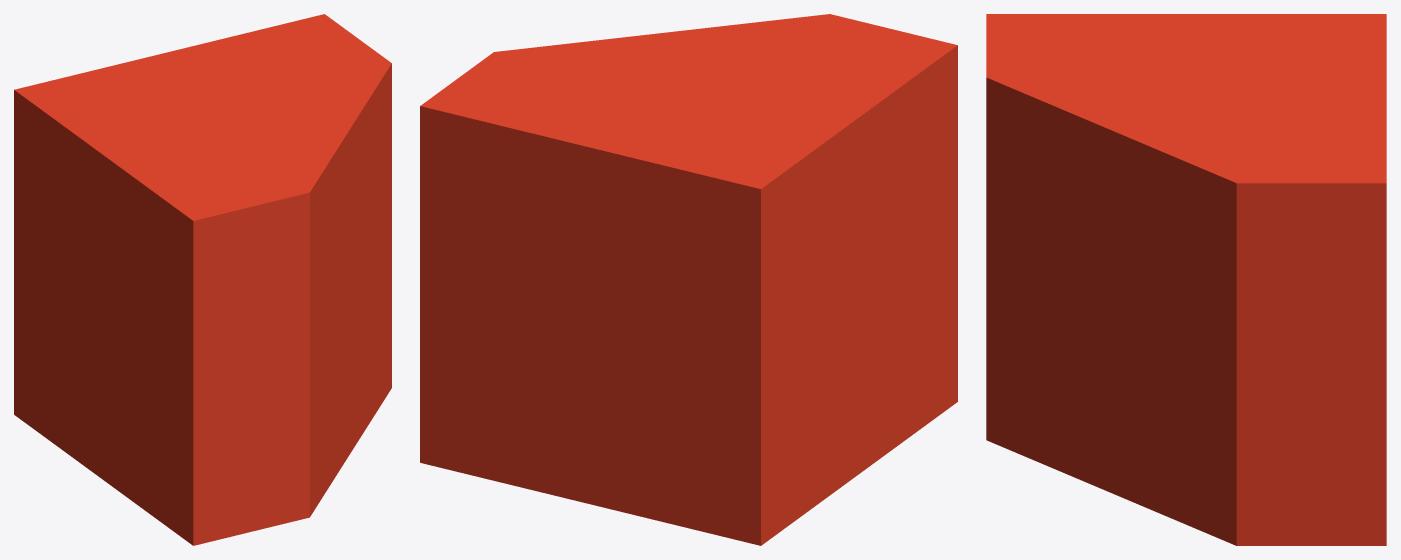
Rendered from r3c8_body_red.gltf.
3 views of the same model, side by side, from view 1: azimuth 30°, elevation 25°; view 2: azimuth 150°, elevation 25°; view 3: azimuth 270°, elevation 25° (orthographic). The views are drawn at different scales.
Parts seen in each view (by area): view 1: r3c8_body_red; view 2: r3c8_body_red; view 3: r3c8_body_red.
Part boxes in pixels (x1,y1,x2,y2): r3c8_body_red: [14, 14, 391, 545]; r3c8_body_red: [420, 14, 957, 545]; r3c8_body_red: [986, 14, 1386, 545].
Size of what is drawn, in the model's own units: 2 by 2 by 2.
1 material, 1 textured.
